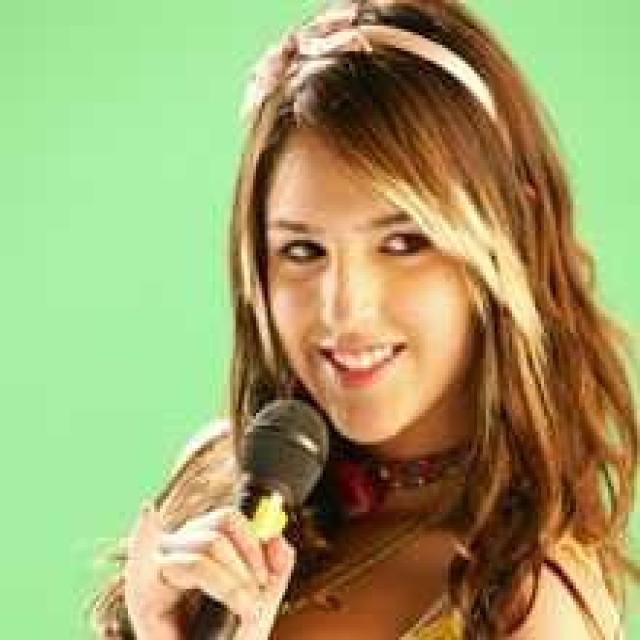microphone: (180, 395, 332, 636)
